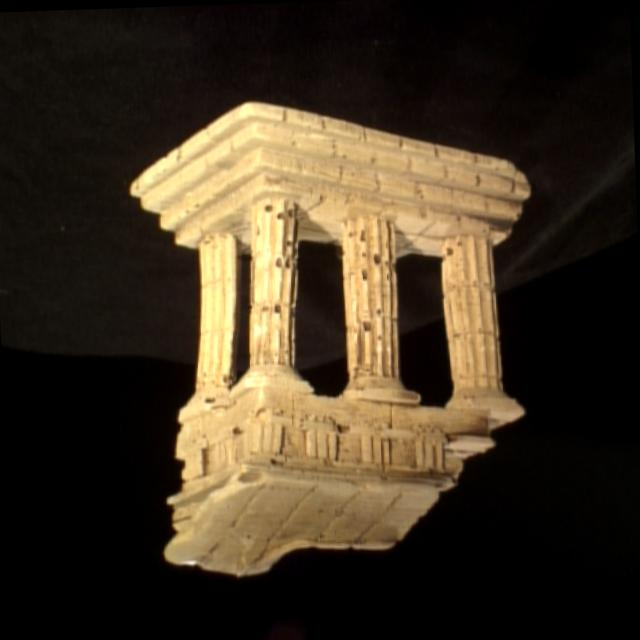Instance-Segmentation: (130, 102, 528, 572)
